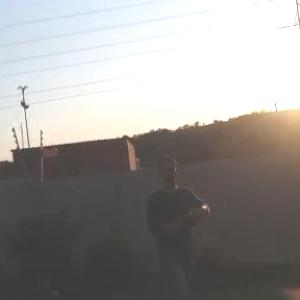follow: (133, 147, 219, 299)
